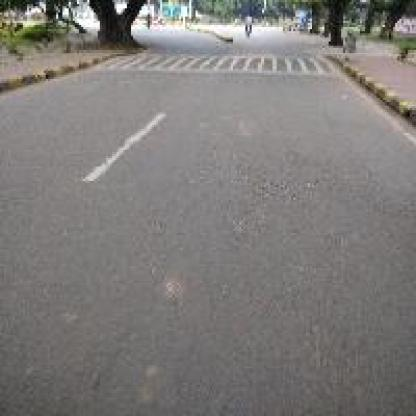Speed Bump: (106, 48, 335, 75)
